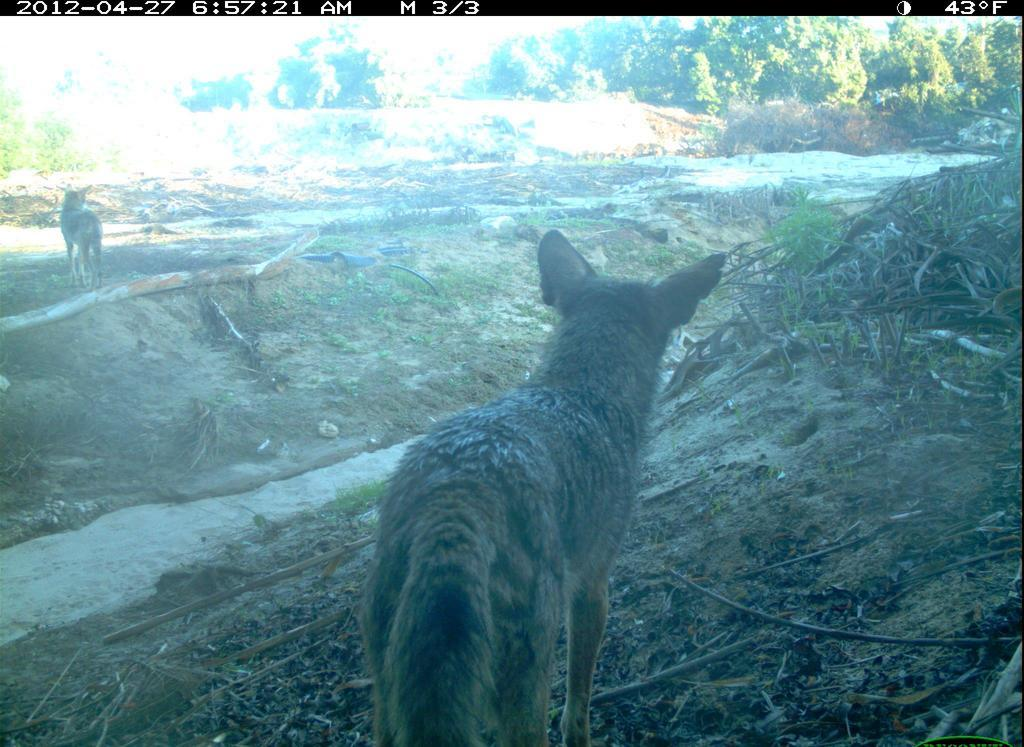coyote: (358, 225, 729, 745), (61, 180, 117, 295)
